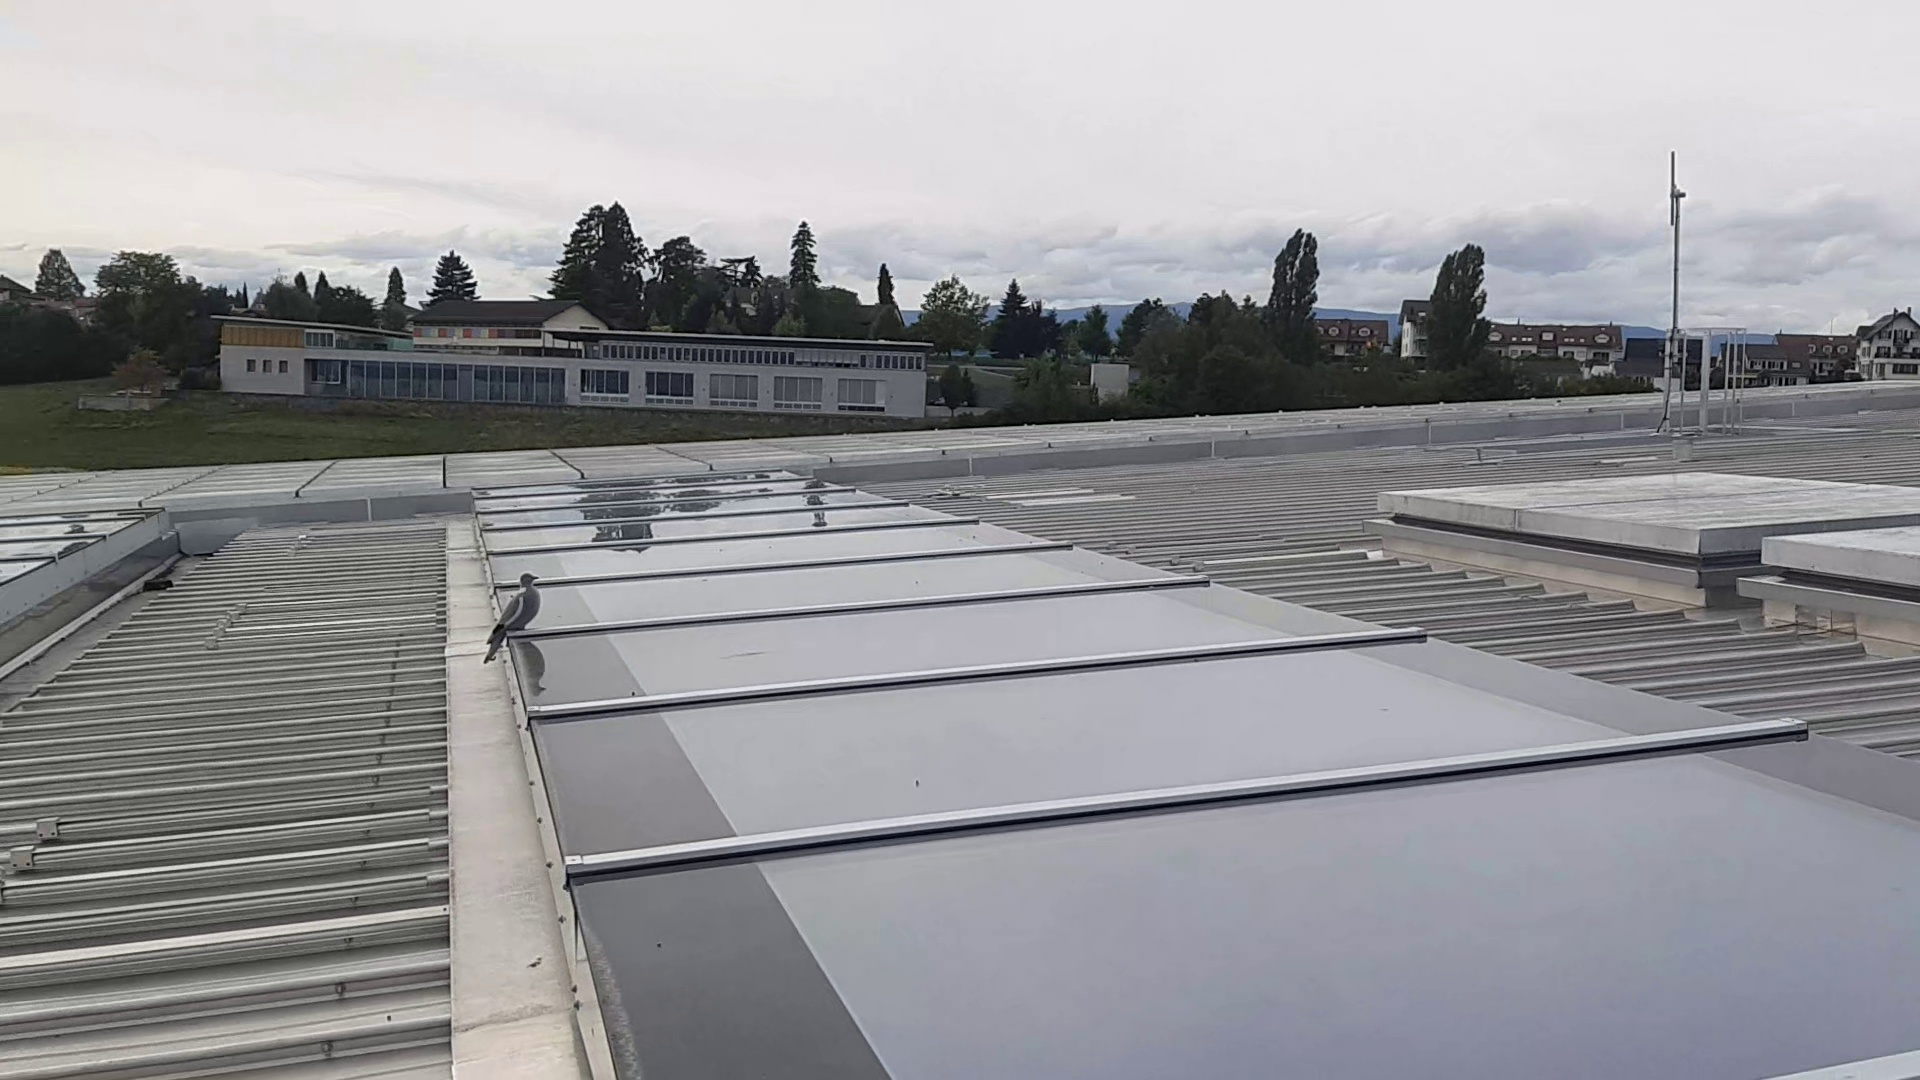Pigeon: (483, 568, 547, 651)
